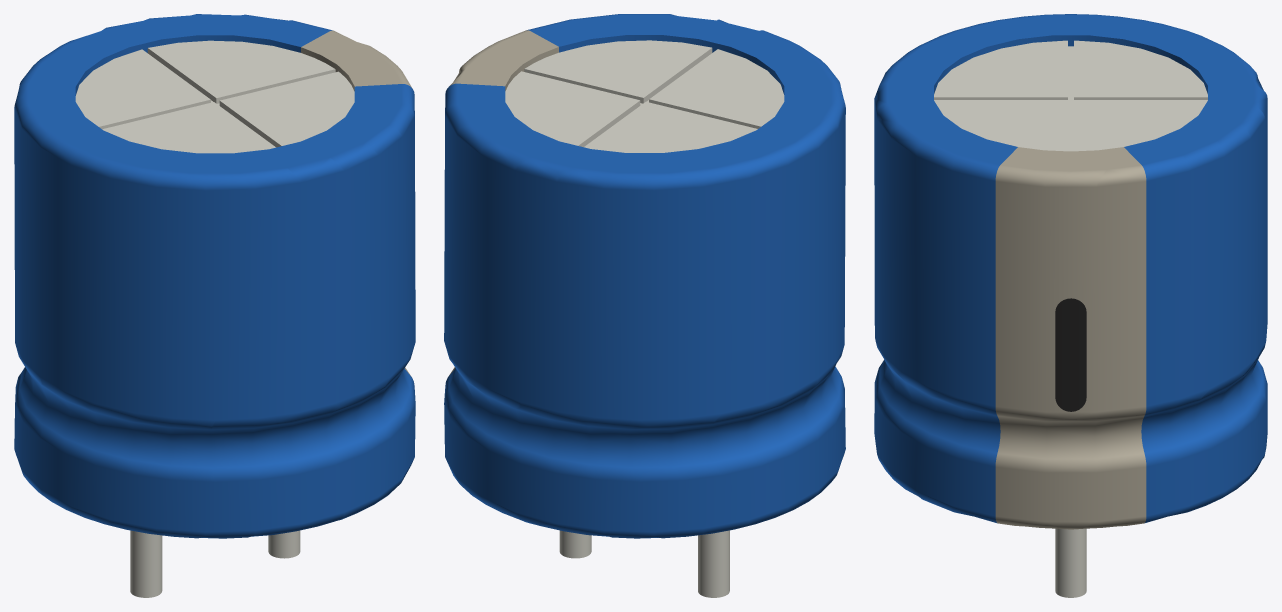
The model's file is Capacitor_THT__CP_Radial_D6.3mm_P2.50mm.glb.
3 renders of one model, left to right at view 1: azimuth 30°, elevation 25°; view 2: azimuth 150°, elevation 25°; view 3: azimuth 270°, elevation 25°, orthographic. The views are drawn at different scales.
Parts seen in each view (by area): view 1: CP_Radial_D63mm_P250mm; view 2: CP_Radial_D63mm_P250mm; view 3: CP_Radial_D63mm_P250mm.
Part boxes in pixels (box(x1,y1,x2,y2)): CP_Radial_D63mm_P250mm: box(14, 14, 415, 597); CP_Radial_D63mm_P250mm: box(444, 14, 845, 597); CP_Radial_D63mm_P250mm: box(874, 14, 1267, 597).
Size of the model in its own units: 0.0063 by 0.0083 by 0.00628.
